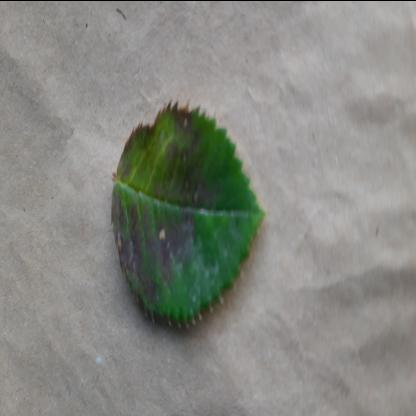downy-mildew: (108, 80, 264, 338)
